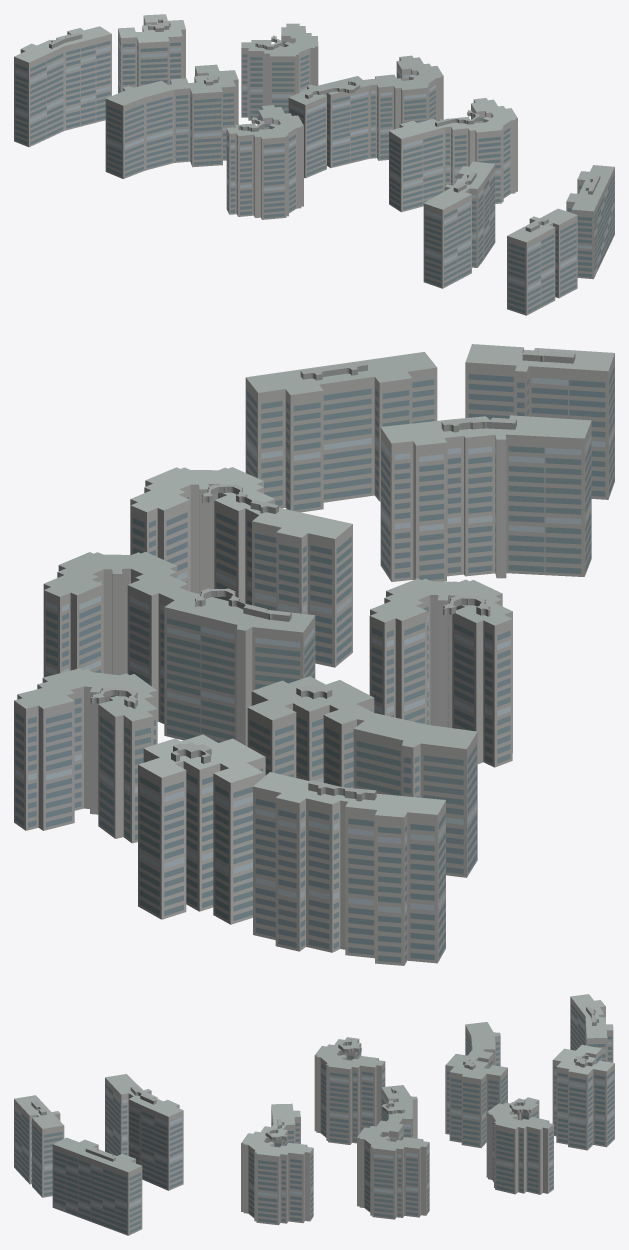
The model's file is apt-a13410006.glb.
3 views of the same model, one above another, from view 1: azimuth 30°, elevation 25°; view 2: azimuth 150°, elevation 25°; view 3: azimuth 270°, elevation 25° (orthographic). The views are drawn at different scales.
Parts seen in each view (by area): view 1: apt-a13410006; view 2: apt-a13410006; view 3: apt-a13410006.
Boxes of the visible parts, x1,y1,x2,y2 form: apt-a13410006: [14, 14, 614, 315]; apt-a13410006: [14, 344, 614, 965]; apt-a13410006: [14, 994, 614, 1235].
Size of the model in its own units: 189 by 45 by 295.
